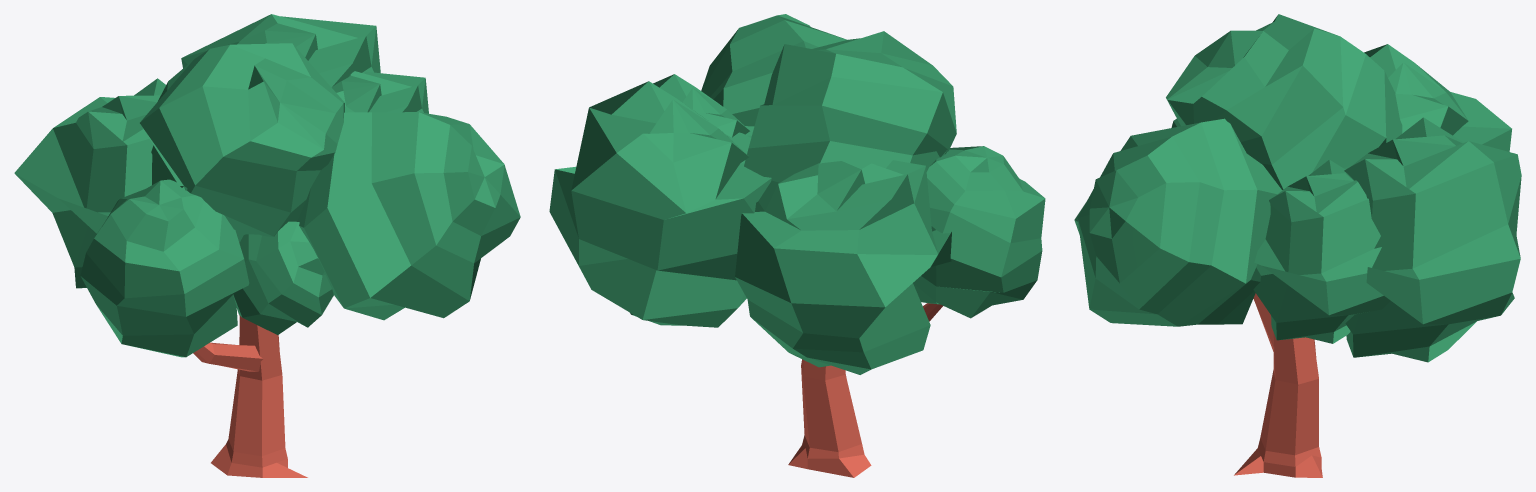
The model's file is Tree5_summer.FBX.
The picture shows the model from 3 angles, left to right: view 1: azimuth 30°, elevation 25°; view 2: azimuth 150°, elevation 25°; view 3: azimuth 270°, elevation 25°; orthographic projection. The views are drawn at different scales.
Parts seen in each view (by area): view 1: Tree 3 autumn.001; view 2: Tree 3 autumn.001; view 3: Tree 3 autumn.001.
Part boxes in pixels (bbox=[...]): Tree 3 autumn.001: bbox=[14, 14, 520, 477]; Tree 3 autumn.001: bbox=[549, 14, 1045, 477]; Tree 3 autumn.001: bbox=[1074, 14, 1521, 477].
Bounding box in the file's own units: 7.24 × 7.36 × 6.98.
